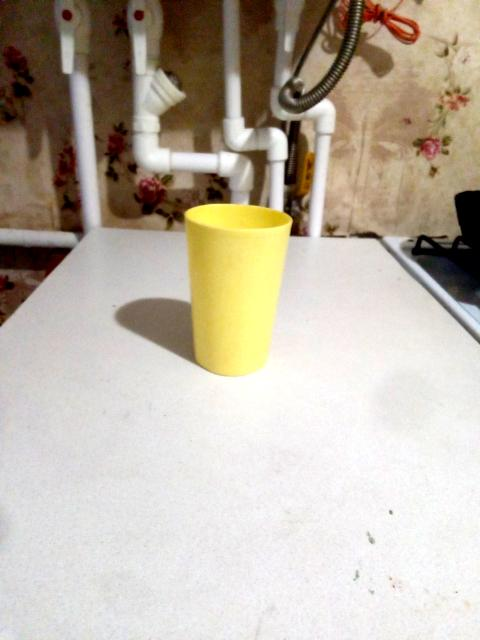Cup: (186, 205, 291, 375)
